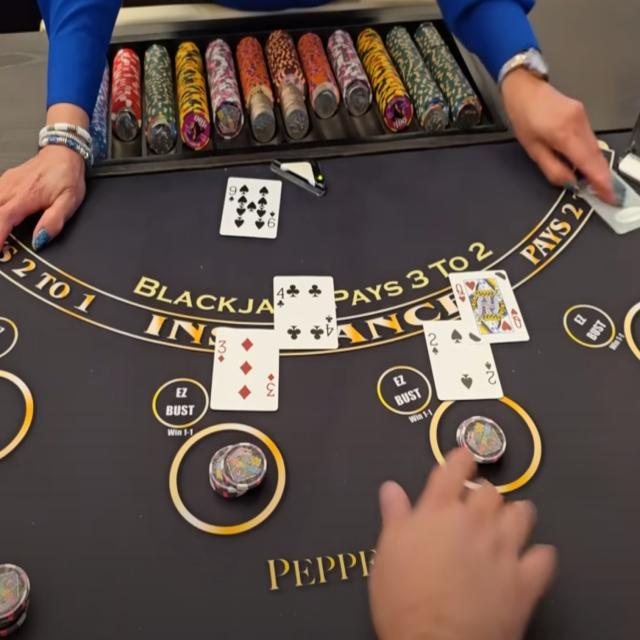2: (426, 330, 441, 347)
3: (217, 337, 227, 355)
4: (274, 285, 286, 300)
9: (228, 183, 237, 196)
Q: (454, 282, 466, 296)
